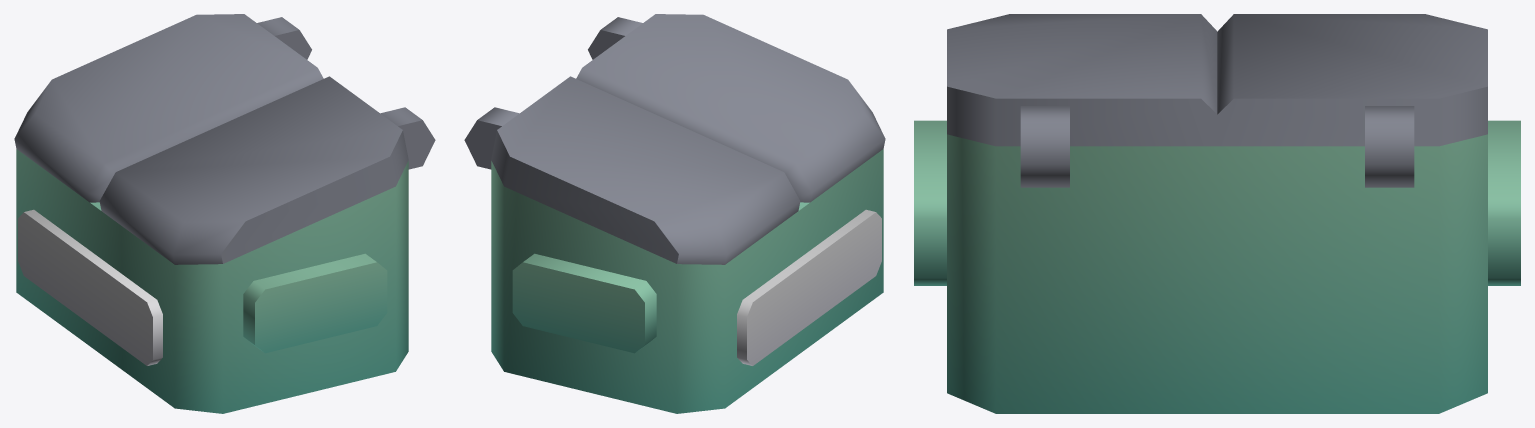
File: trash-dumpster.glb
The picture shows the model from 3 angles, left to right: view 1: azimuth 30°, elevation 25°; view 2: azimuth 150°, elevation 25°; view 3: azimuth 270°, elevation 25°; orthographic projection. The views are drawn at different scales.
Visible parts, largest first — view 1: trash-dumpster; view 2: trash-dumpster; view 3: trash-dumpster.
Part boxes in pixels (x1,y1,x2,y2): trash-dumpster: [14, 14, 435, 413]; trash-dumpster: [464, 14, 885, 413]; trash-dumpster: [914, 14, 1520, 413].
Size of the model in its own units: 0.275 by 0.2094 by 0.37.
